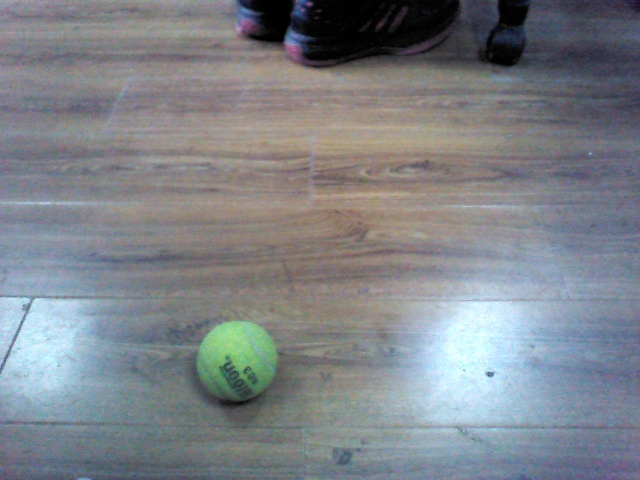ball: (371, 256, 517, 395)
